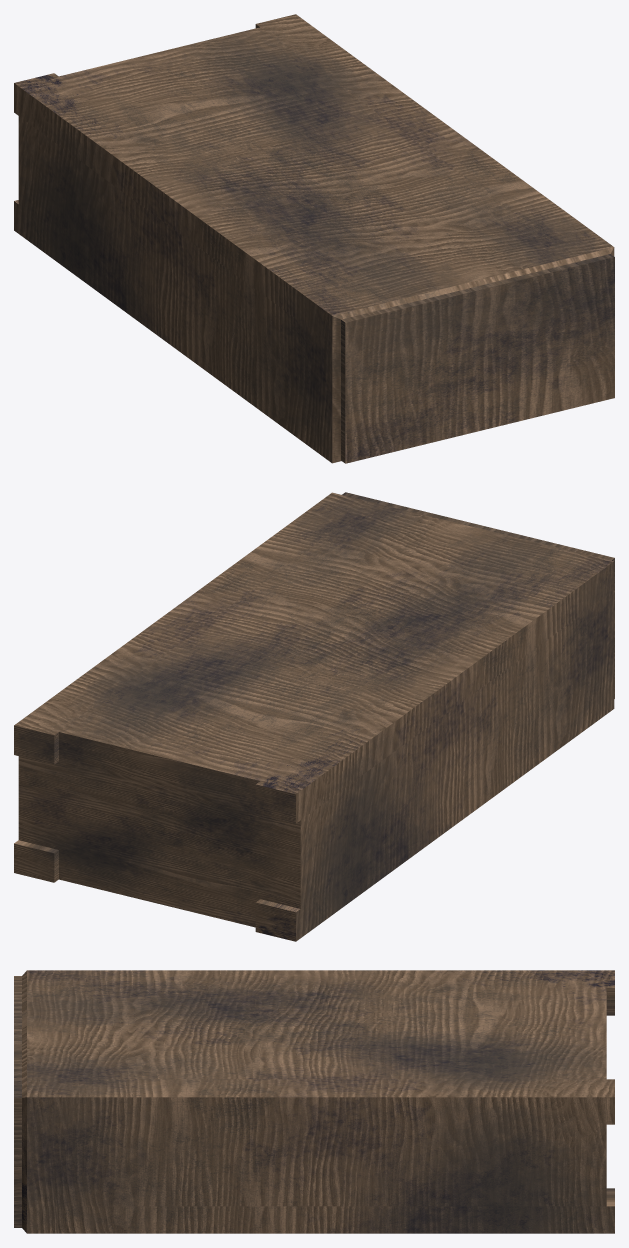
Rendered from 장애물_엎어진책장.fbx.
3 renders of one model, top to bottom at view 1: azimuth 30°, elevation 25°; view 2: azimuth 150°, elevation 25°; view 3: azimuth 270°, elevation 25°, orthographic. The views are drawn at different scales.
Parts seen in each view (by area): view 1: 엎어진책장; view 2: 엎어진책장; view 3: 엎어진책장.
Boxes of the visible parts, x1=… form: 엎어진책장: x1=14, y1=14, x2=614, y2=463; 엎어진책장: x1=14, y1=492, x2=614, y2=941; 엎어진책장: x1=14, y1=970, x2=614, y2=1233.
Bounding box in the file's own units: 100 × 50 × 200.
